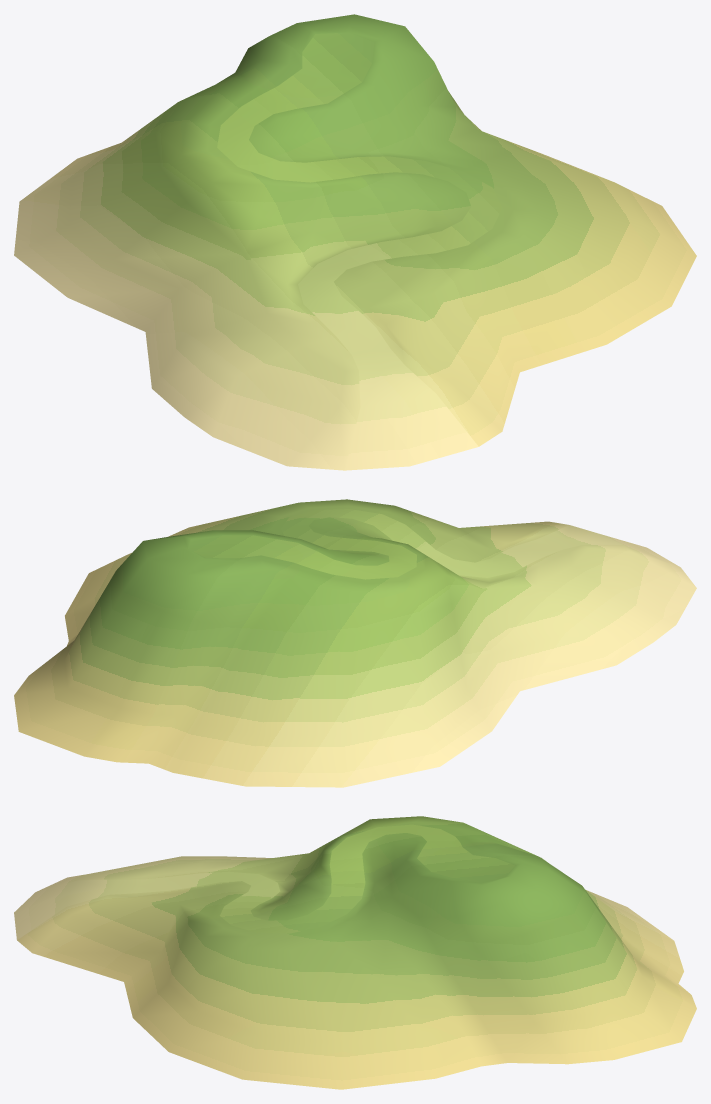
Rendered from model_island_02.fbx.
3 views of the same model, one above another, from view 1: azimuth 30°, elevation 25°; view 2: azimuth 150°, elevation 25°; view 3: azimuth 270°, elevation 25° (orthographic). The views are drawn at different scales.
Visible parts, largest first — view 1: island_02_geo; view 2: island_02_geo; view 3: island_02_geo.
Part boxes in pixels (box(x1,y1,x2,y2)): island_02_geo: box(14, 14, 696, 470); island_02_geo: box(14, 499, 696, 787); island_02_geo: box(14, 816, 696, 1089).
Bounding box in the file's own units: 317 × 87.56 × 400.
